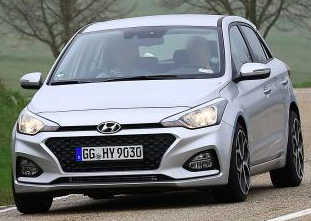car: (9, 12, 304, 218)
